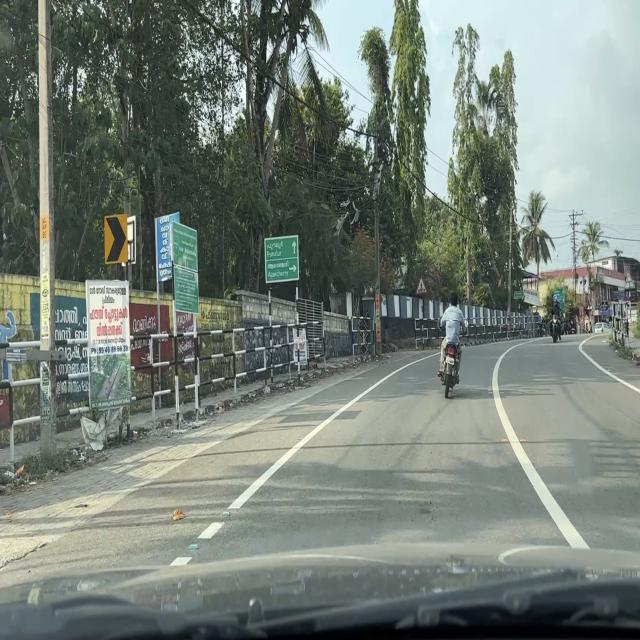GENERAL: (172, 222, 200, 314), (264, 235, 299, 284), (514, 291, 524, 299)
PEDESTRIAN_CROSSING: (416, 275, 428, 295)
TURN_RIGHT: (104, 214, 128, 264)
